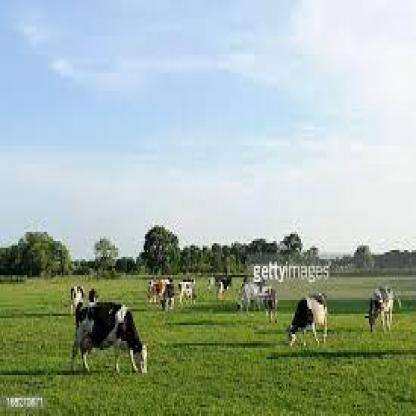cow: (70, 299, 149, 376), (285, 291, 329, 348), (363, 283, 395, 331), (234, 282, 262, 316), (263, 286, 277, 325), (147, 278, 169, 302), (159, 282, 175, 314), (70, 283, 84, 315), (177, 280, 194, 304), (88, 285, 100, 308)
